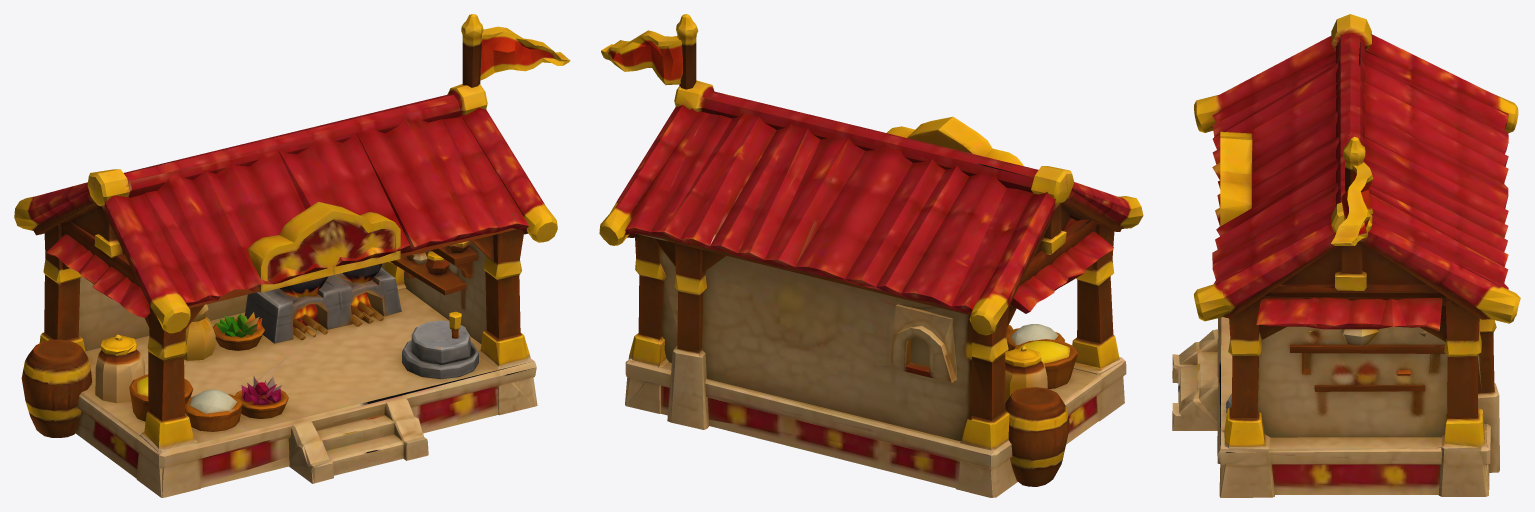
Rendered from kitchen.glb.
The picture shows the model from 3 angles, left to right: view 1: azimuth 30°, elevation 25°; view 2: azimuth 150°, elevation 25°; view 3: azimuth 270°, elevation 25°; orthographic projection. The views are drawn at different scales.
Parts seen in each view (by area): view 1: mesh_000; view 2: mesh_000; view 3: mesh_000.
Boxes of the visible parts, box(x1,y1,x2,y2) form: mesh_000: box(14, 14, 570, 497); mesh_000: box(599, 14, 1143, 497); mesh_000: box(1172, 14, 1520, 497).
Bounding box in the file's own units: 0.9585 × 0.6372 × 0.5542.
Materials: 1 (1 with a texture image).
